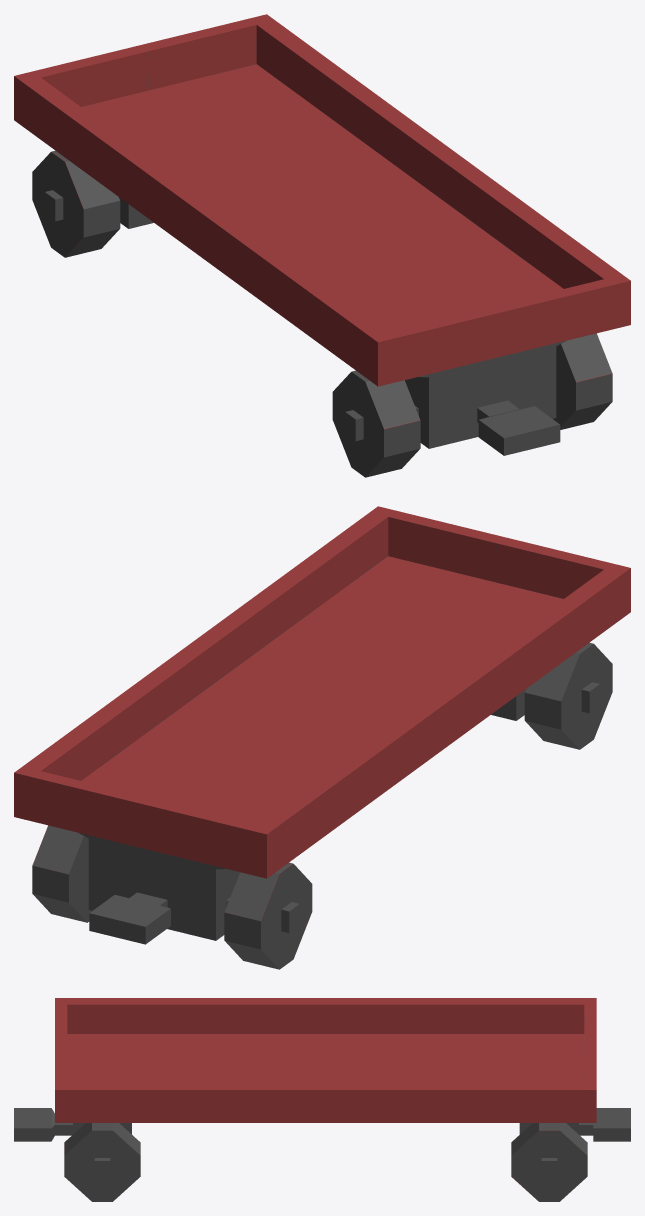
Rendered from Train_Car_3.glb.
3 renders of one model, top to bottom at view 1: azimuth 30°, elevation 25°; view 2: azimuth 150°, elevation 25°; view 3: azimuth 270°, elevation 25°, orthographic. The views are drawn at different scales.
Parts seen in each view (by area): view 1: Train_Car_3; view 2: Train_Car_3; view 3: Train_Car_3.
Part boxes in pixels (x1,y1,x2,y2): Train_Car_3: (14, 14, 630, 477); Train_Car_3: (14, 506, 630, 969); Train_Car_3: (14, 998, 630, 1201).
Size of what is drawn, in the model's own units: 2.2 by 1.3 by 6.25.
1 material, 1 textured.
